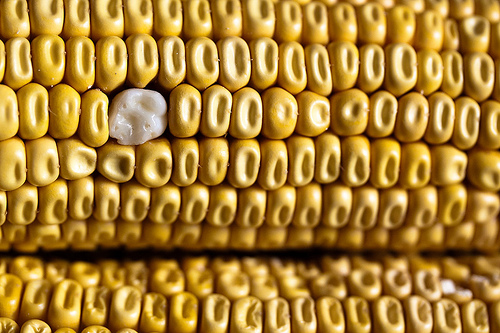corn: (0, 0, 499, 251), (0, 254, 498, 332)
